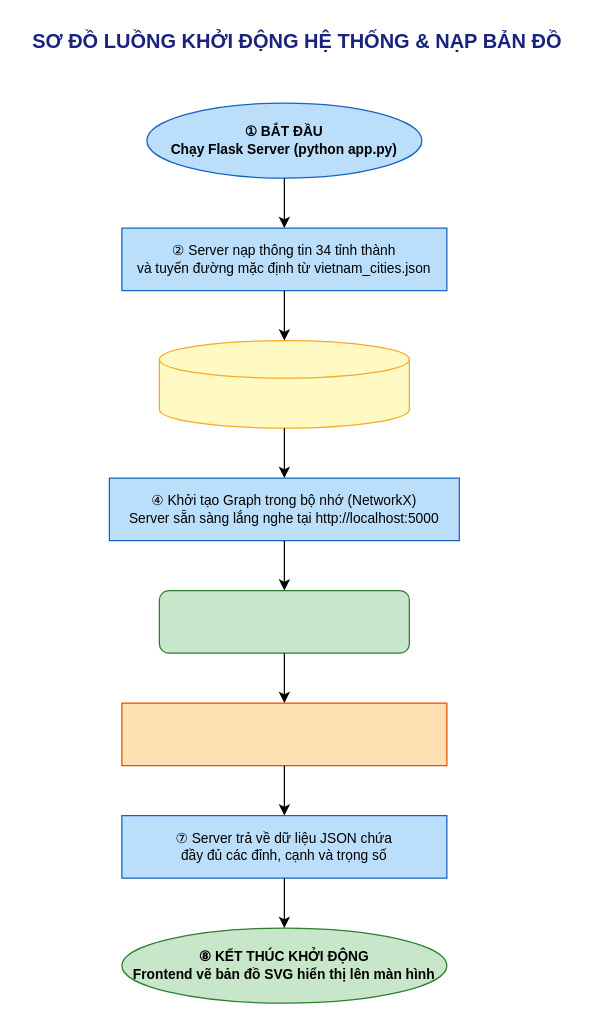
The diagram is 593 pixels wide and 1025 high, and some of its shapes have lost their labels. Here are the shapes that lost their labels. From the top down, the box of each, then its label:
(158, 339, 409, 428): ③ Đồng bộ các chướng ngại vật và khoảng cách cũ đã lưu từ SQLite
(158, 589, 409, 653): ⑤ Người dùng truy cập trang web trên trình duyệt
(121, 702, 447, 766): ⑥ Frontend tự động gửi request lấy đồ thị GET /api/graph
